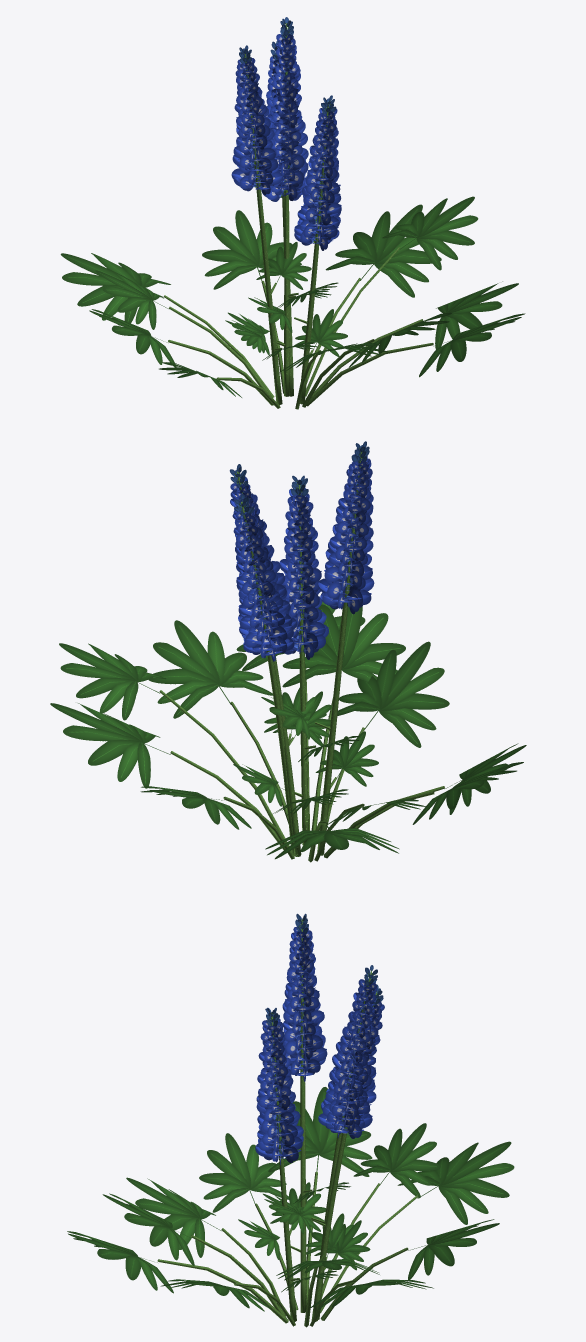
File: lupine_v01.fbx
The picture shows the model from 3 angles, top to bottom: view 1: azimuth 30°, elevation 25°; view 2: azimuth 150°, elevation 25°; view 3: azimuth 270°, elevation 25°; orthographic projection. The views are drawn at different scales.
Visible parts, largest first — view 1: lupine_v01; view 2: lupine_v01; view 3: lupine_v01.
Boxes of the visible parts, x1,y1,x2,y2 form: lupine_v01: [60, 17, 525, 409]; lupine_v01: [50, 441, 526, 862]; lupine_v01: [67, 913, 514, 1327].
Bounding box in the file's own units: 80.48 × 86.4 × 65.59.
Materials: 3 (3 with a texture image).
